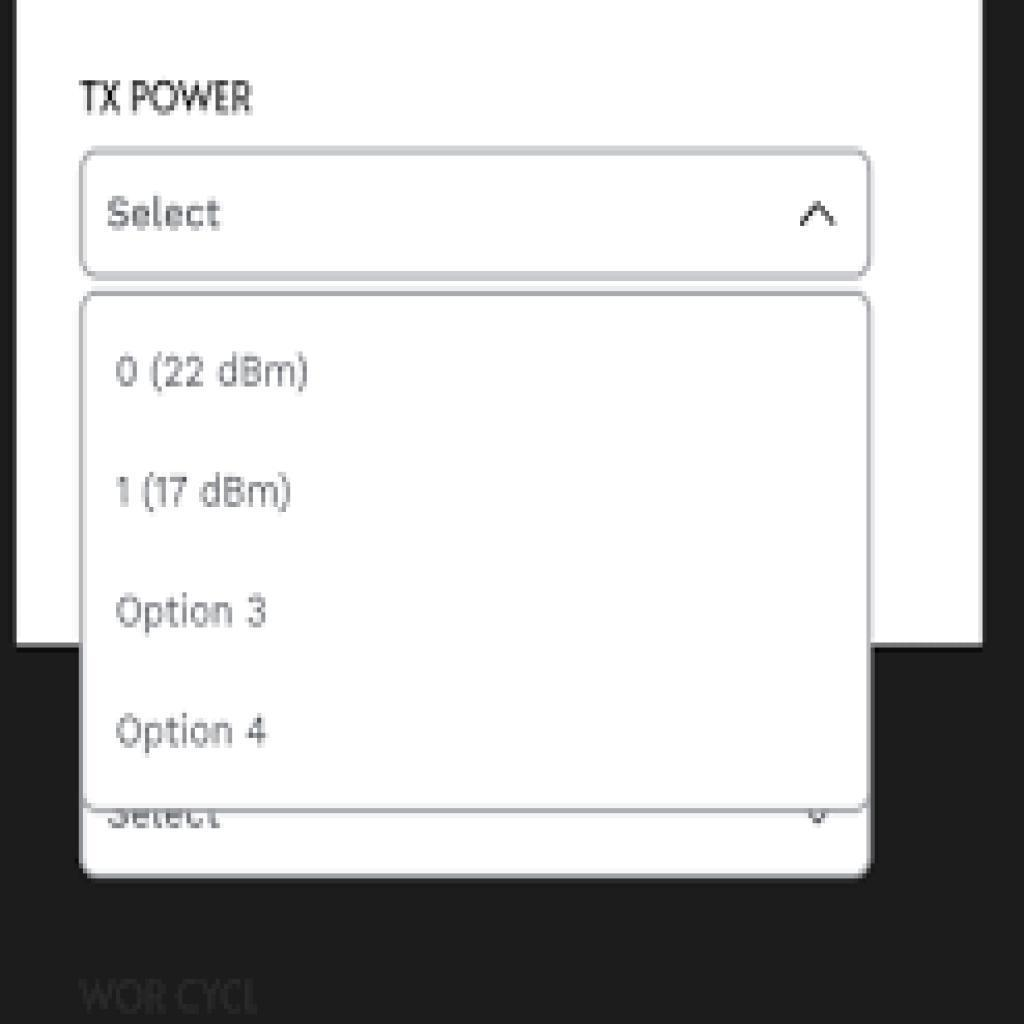dropdown: (81, 148, 873, 278)
